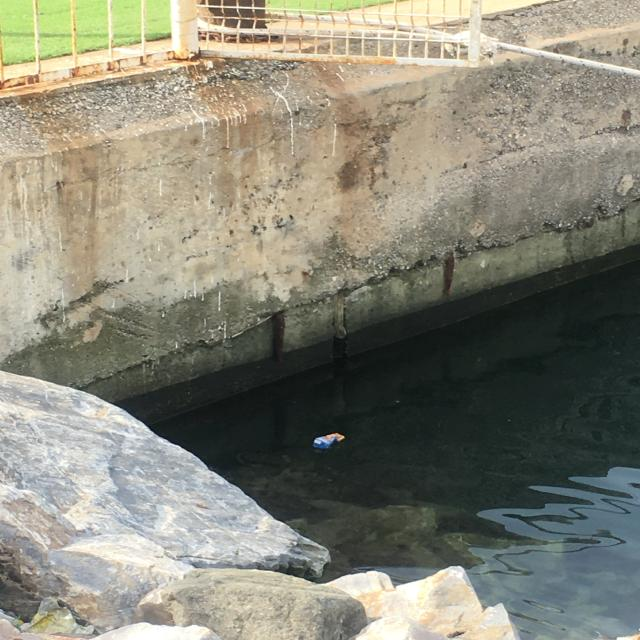Juice box: (310, 431, 347, 451)
